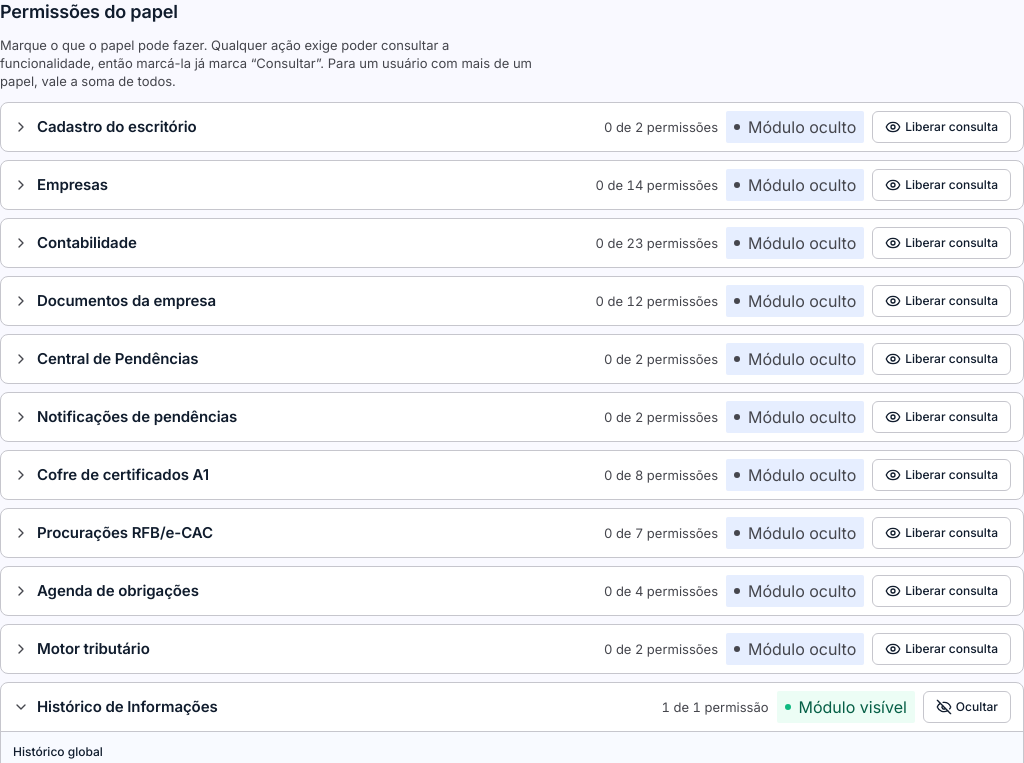
dependência de Consultar (§3.3) › marcar uma ação marca Consultar da mesma funcionalidade
Click the button "Empresas" at (72, 184), box [13,171,588,199]
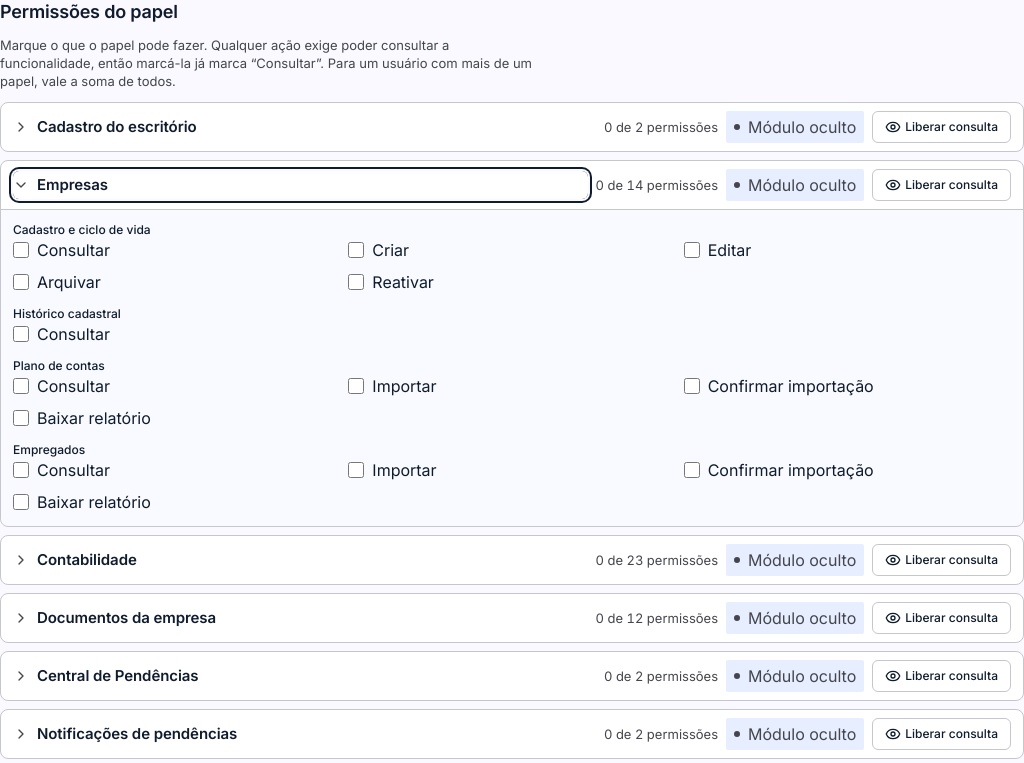
Expected: the checkbox labelled "Consultar" in the row of "Criar" is not checked, [13,242,29,258]
Click the checkbox labelled "Reativar" at (356, 282), box [348,274,364,290]
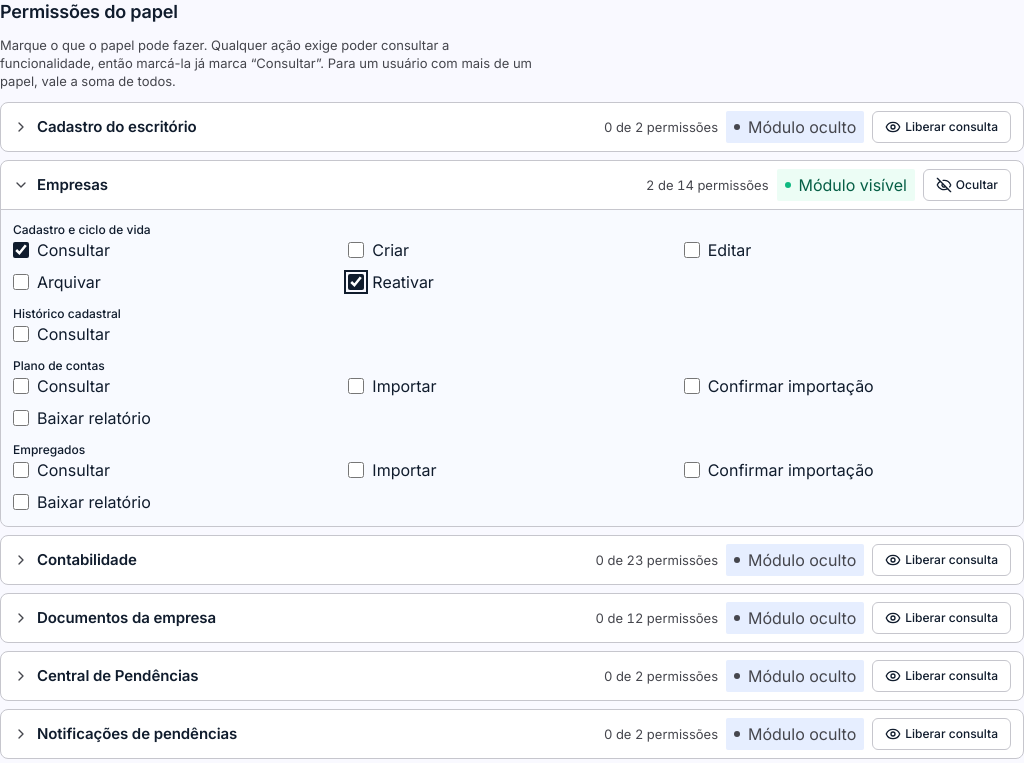
Expected: the checkbox labelled "Reativar" is checked, [348,274,364,290]
Expected: the checkbox labelled "Consultar" in the row of "Criar" is checked, [13,242,29,258]
